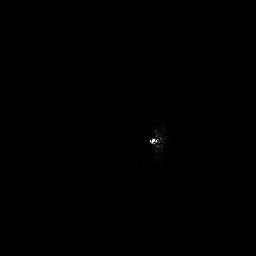ship: (146, 129, 167, 150)
